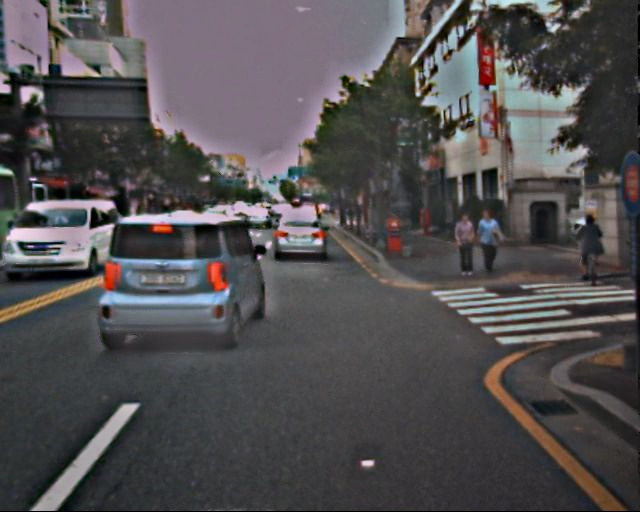person: (453, 211, 482, 282), (475, 210, 503, 279), (575, 214, 602, 279)
